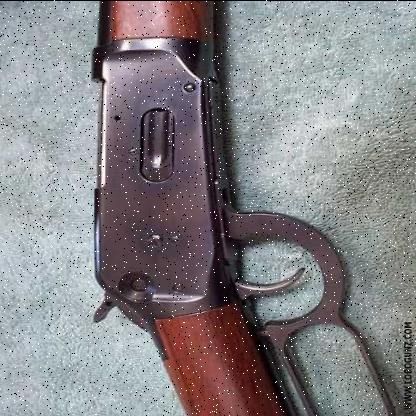rifle: (45, 27, 404, 416)
